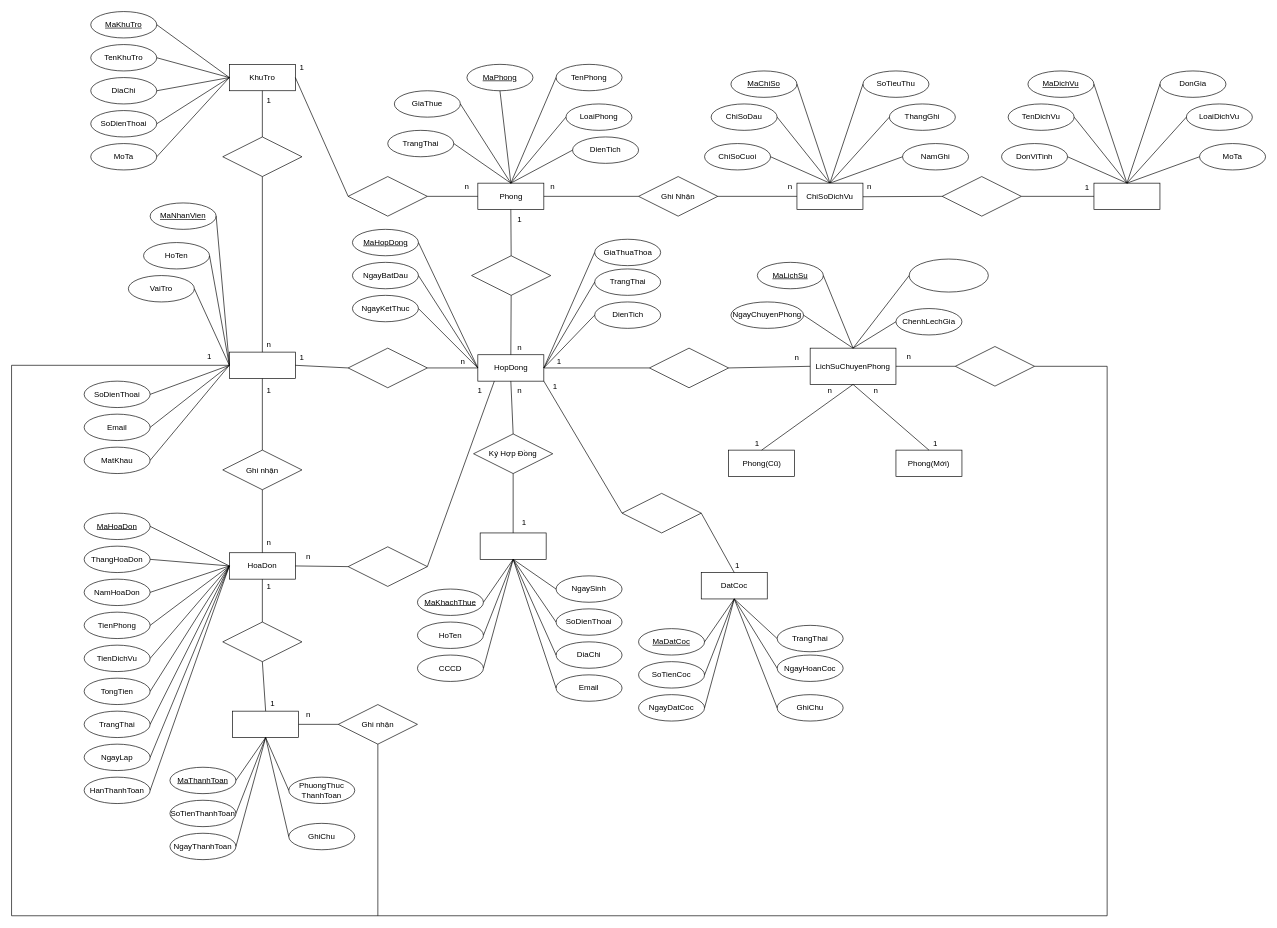
Image size: 1277x928. Some labels were removed from this diagram. Each missing label, with the centre of its shape:
"Chuyển Phòng" belongs at (689,367).
"Có" belongs at (981,196).
"DichVu" belongs at (1126,196).
"KhachThue" belongs at (512,545).
"LyDoChuyenPhong" belongs at (948,275).
"Lập Hoá Đơn" belongs at (387,566).
"Lập Hợp Đồng" belongs at (387,367).
"NhanVien" belongs at (262,365).
"Phụ trách" belongs at (262,156).
"Quản Lý" belongs at (387,196).
"Thanh Toán" belongs at (262,641).
"ThanhToan" belongs at (265,724).
"Thuộc Về" belongs at (511,275).
"Xử Lý" belongs at (995,366).
"Đặt Cọc" belongs at (661,513).
